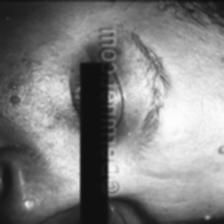Toxin: (8, 93, 22, 103), (216, 142, 224, 154)
